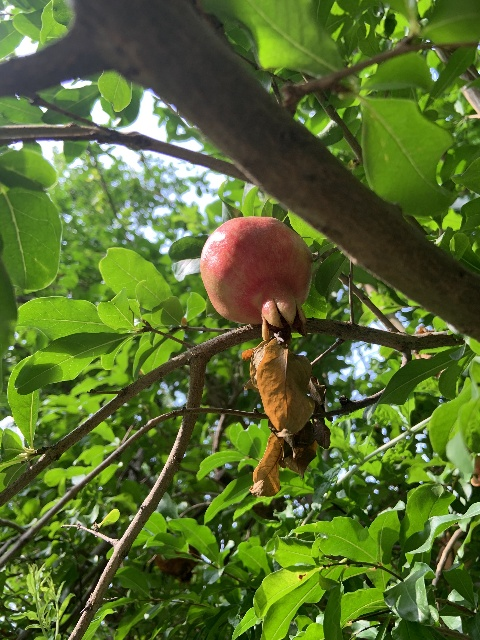ripe: (199, 216, 311, 345)
